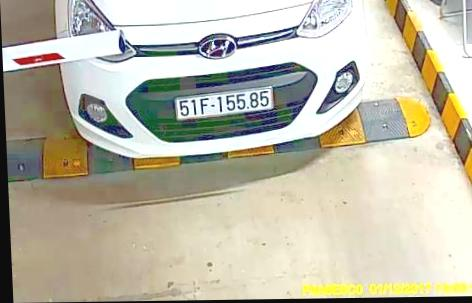License_Plate: (174, 89, 273, 117)
